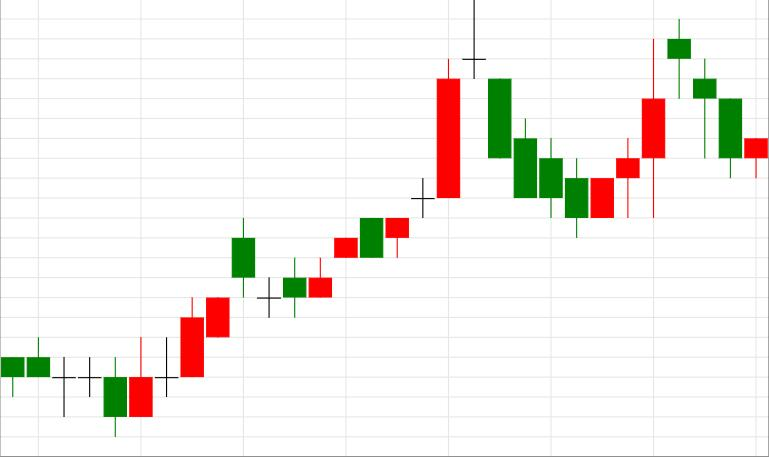evening_star_fall: (309, 0, 511, 298), (590, 19, 716, 218)
